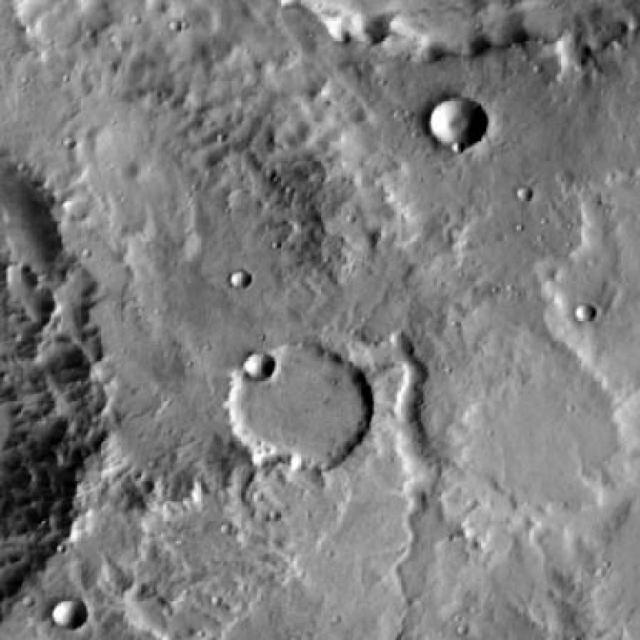crater: (222, 342, 370, 472), (424, 95, 484, 147), (49, 594, 86, 628), (242, 349, 272, 376), (235, 280, 254, 297), (580, 305, 598, 321)
